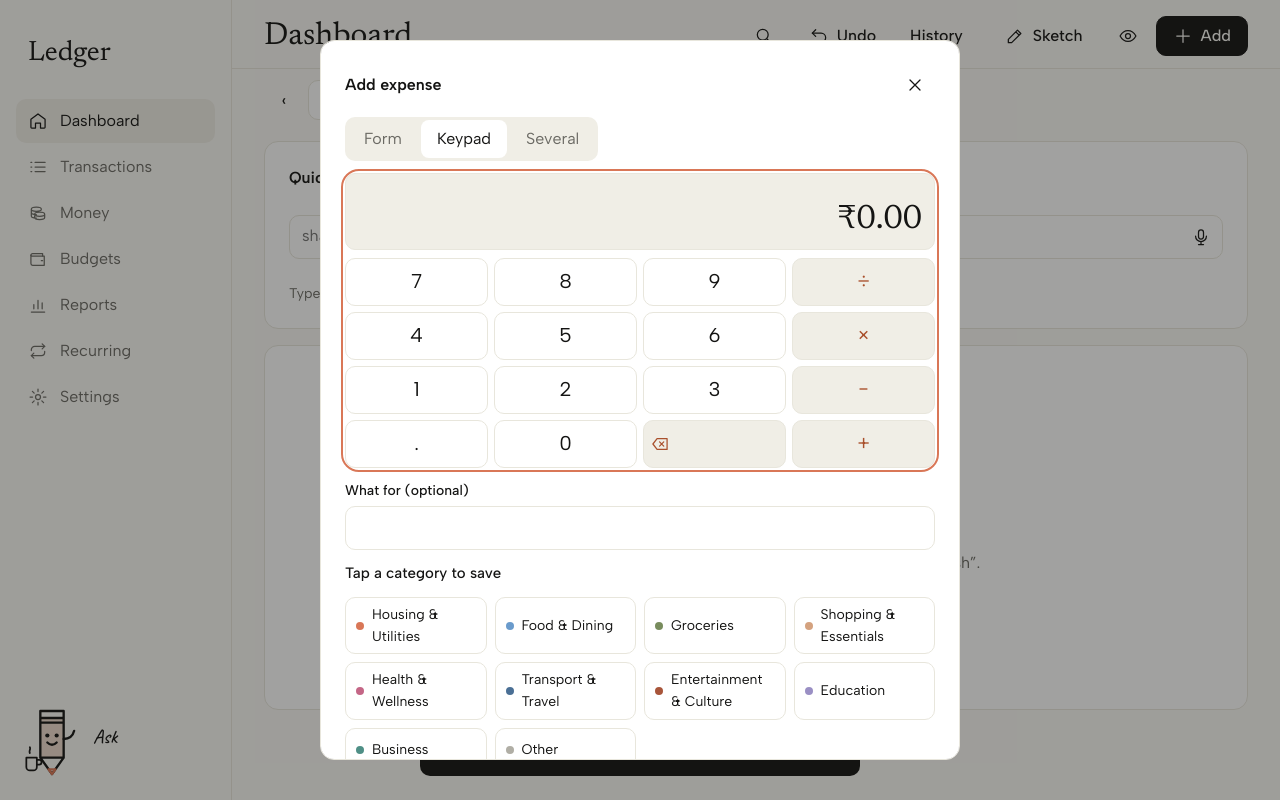
Scenario: the keypad › hardware keys work and a category without an amount explains itself
The image size is (1280, 800).
Check: the heading "Dashboard" is shown, box [264,20,412,52]
Click the button with aria-label "to Health" at (416, 691), box [345,662,486,720]
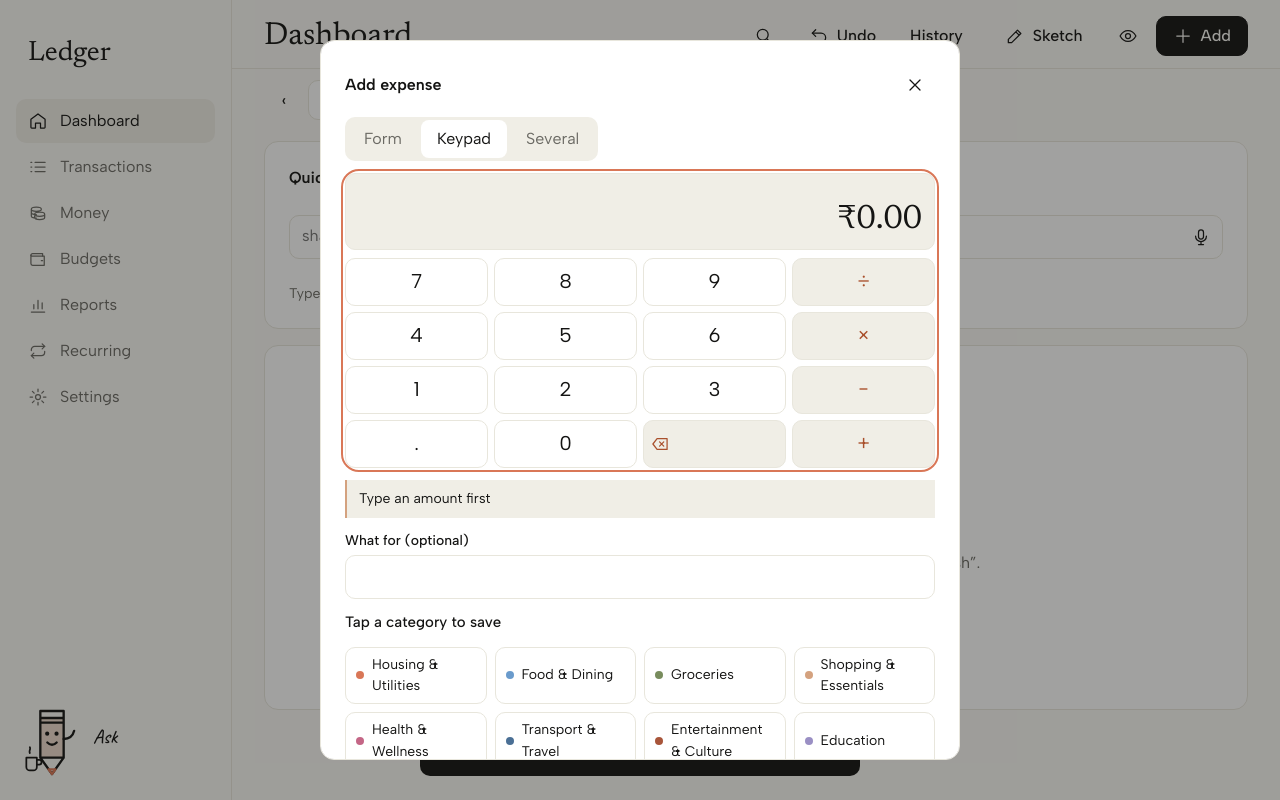
Check: the message "Type an amount first" is shown, box [345,480,935,518]
Type keys "3*45"
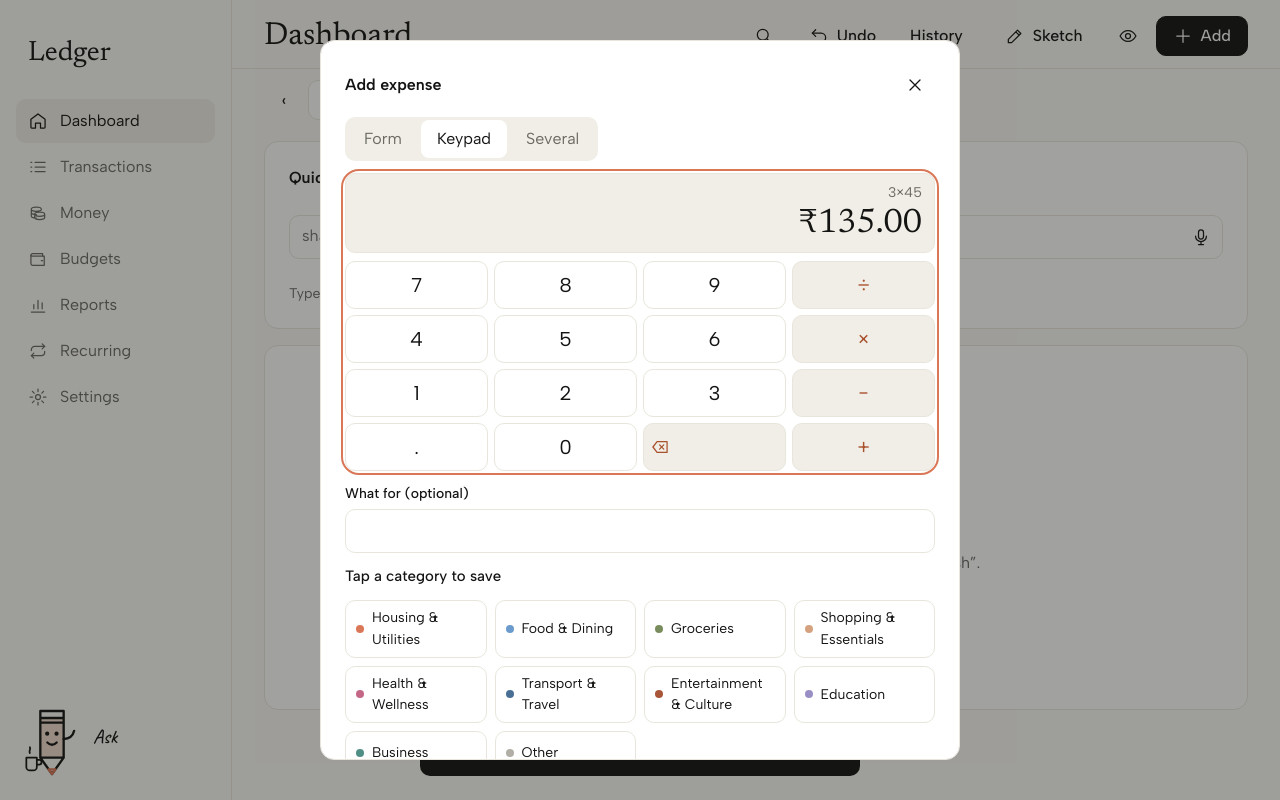
Check: the text with test id "keypad-amount" shows "135", box [799,207,922,241]
